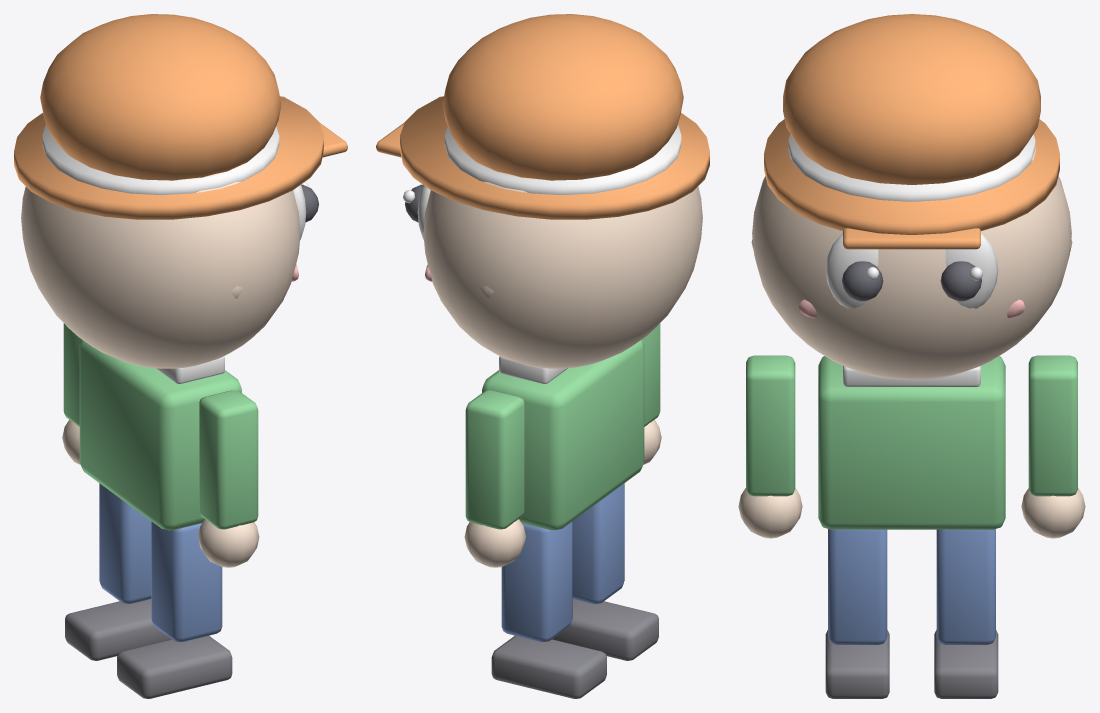
The model's file is youngster_joey.glb.
3 views of the same model, side by side, from view 1: azimuth 30°, elevation 25°; view 2: azimuth 150°, elevation 25°; view 3: azimuth 270°, elevation 25° (orthographic). The views are drawn at different scales.
Parts seen in each view (by area): view 1: Head, Hat_Crown, Torso_Shirt, Hat_Brim, Arm_L, Leg_L, Shoe_L, Leg_R, Shoe_R, Hat_Band, Hand_L, Arm_R (+3 smaller); view 2: Head, Hat_Crown, Torso_Shirt, Hat_Brim, Arm_R, Leg_R, Shoe_R, Leg_L, Shoe_L, Hat_Band, Hand_R, Arm_L (+3 smaller); view 3: Hat_Crown, Head, Torso_Shirt, Hat_Brim, Arm_L, Arm_R, Leg_L, Leg_R, Hat_Band, Shoe_L, Shoe_R, Hat_Bill (+7 smaller).
Boxes of the visible parts, x1,y1,x2,y2 form: Head: (21, 164, 300, 368); Hat_Crown: (40, 14, 281, 180); Torso_Shirt: (79, 339, 241, 530); Hat_Brim: (14, 96, 323, 219); Arm_L: (199, 390, 258, 529); Leg_L: (151, 521, 222, 641); Shoe_L: (117, 635, 232, 698); Leg_R: (99, 483, 151, 603); Shoe_R: (65, 599, 171, 660); Hat_Band: (42, 125, 279, 195); Hand_L: (198, 519, 259, 567); Arm_R: (63, 323, 81, 426); Head: (423, 164, 702, 368); Hat_Crown: (442, 14, 683, 180); Torso_Shirt: (482, 339, 644, 530); Hat_Brim: (400, 96, 709, 219); Arm_R: (465, 390, 524, 529); Leg_R: (501, 521, 572, 641); Shoe_R: (491, 635, 606, 698); Leg_L: (572, 483, 624, 603); Shoe_L: (552, 599, 658, 660); Hat_Band: (444, 125, 681, 195); Hand_R: (464, 519, 525, 567); Arm_L: (642, 323, 660, 426); Hat_Crown: (783, 14, 1040, 184); Head: (752, 147, 1071, 379); Torso_Shirt: (818, 356, 1005, 529); Hat_Brim: (764, 119, 1059, 234); Arm_L: (746, 355, 795, 496); Arm_R: (1028, 355, 1077, 496); Leg_L: (828, 529, 887, 644); Leg_R: (936, 529, 995, 644); Hat_Band: (788, 134, 1035, 201); Shoe_L: (825, 630, 889, 698); Shoe_R: (934, 630, 998, 698); Hat_Bill: (843, 228, 980, 249).
Size of the model in its own units: 0.696 by 1.46 by 0.7032.
